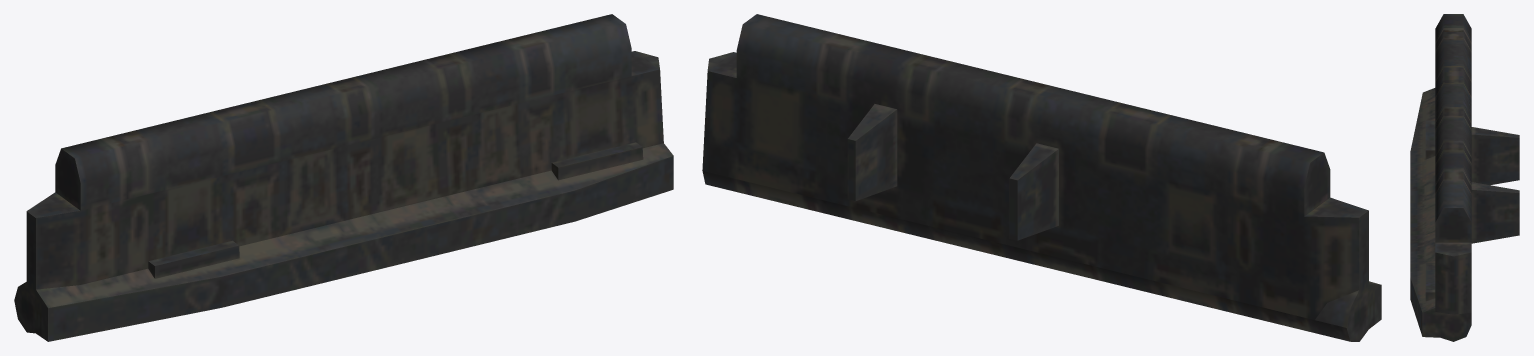
The model's file is segmentL.glb.
3 views of the same model, side by side, from view 1: azimuth 30°, elevation 25°; view 2: azimuth 150°, elevation 25°; view 3: azimuth 270°, elevation 25° (orthographic). The views are drawn at different scales.
Visible parts, largest first — view 1: set_0_group_0; view 2: set_0_group_0; view 3: set_0_group_0.
Boxes of the visible parts, bbox=[...] form: set_0_group_0: bbox=[14, 14, 673, 341]; set_0_group_0: bbox=[702, 14, 1381, 341]; set_0_group_0: bbox=[1410, 14, 1519, 341].
Bounding box in the file's own units: 0.8 × 0.2045 × 0.1665.
1 material, 1 textured.
